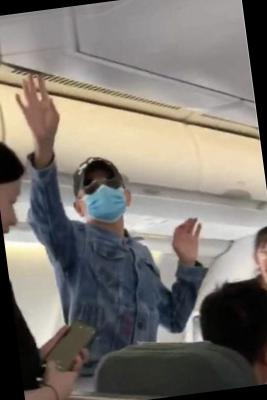with_mask: (77, 169, 130, 228)
